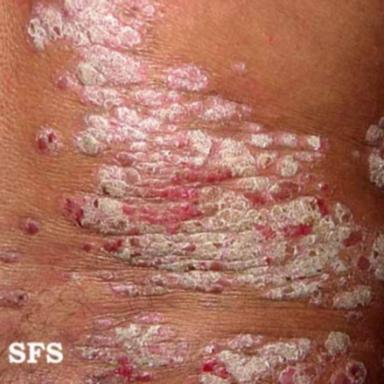Psoriasis: (24, 1, 384, 324), (61, 313, 190, 382), (197, 332, 367, 384), (365, 116, 384, 190), (36, 126, 63, 155), (0, 286, 29, 308), (19, 217, 41, 235), (83, 243, 92, 251)
